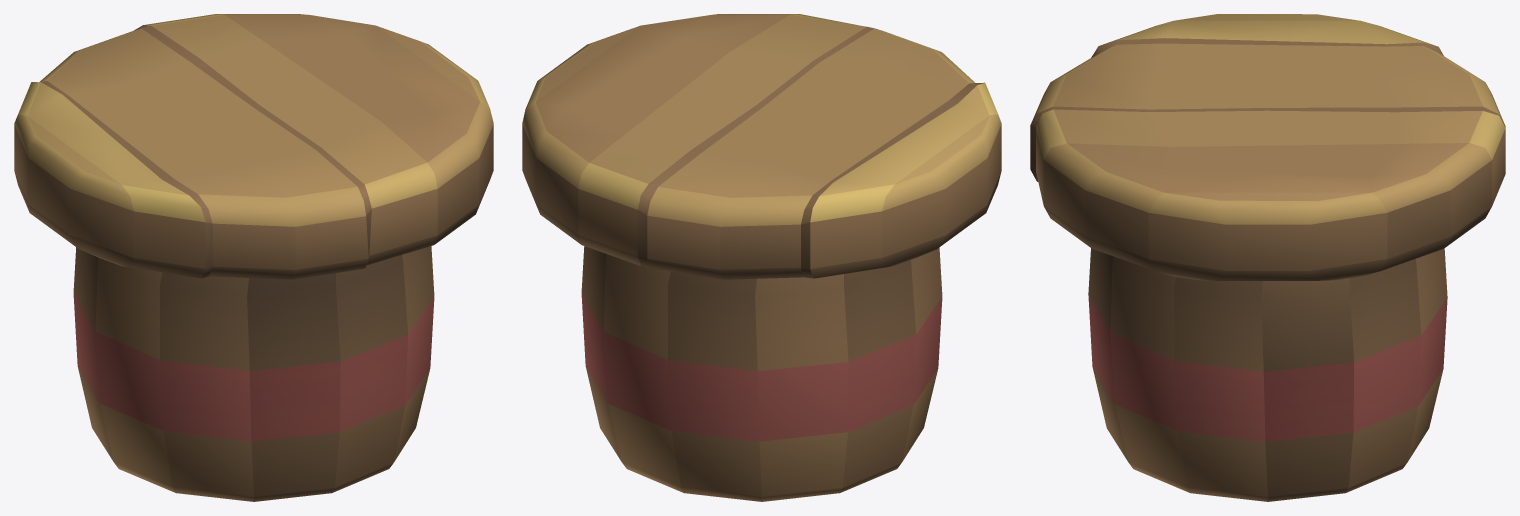
The model's file is tavern_table.fbx.
The picture shows the model from 3 angles, left to right: view 1: azimuth 30°, elevation 25°; view 2: azimuth 150°, elevation 25°; view 3: azimuth 270°, elevation 25°; orthographic projection.
Visible parts, largest first — view 1: tavern_table_LOD0; view 2: tavern_table_LOD0; view 3: tavern_table_LOD0.
Boxes of the visible parts, bbox=[...] form: tavern_table_LOD0: bbox=[14, 14, 493, 501]; tavern_table_LOD0: bbox=[522, 14, 1001, 501]; tavern_table_LOD0: bbox=[1030, 14, 1505, 501].
Size of what is drawn, in the model's own units: 98.48 by 76.62 by 99.6.
